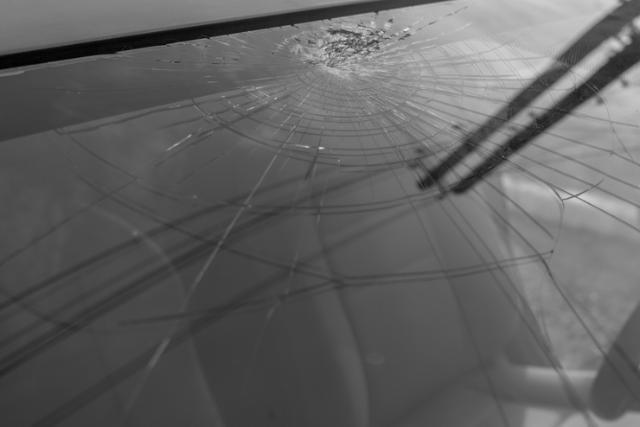Windshield: (0, 6, 640, 427)
